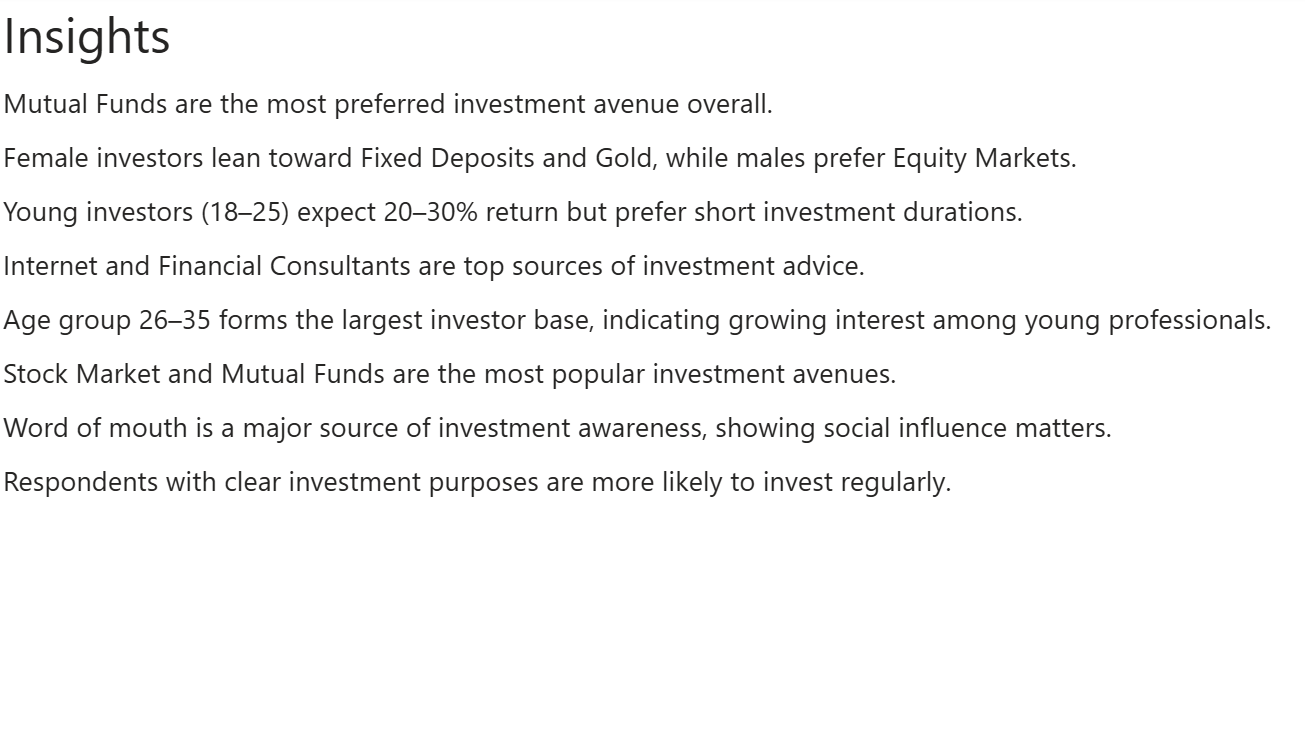

Layout of this report page (visuals, bound fields, positions):
{"tool":"powerbi","page":{"name":"Insights","canvas":[1280,720],"ordinal":1},"visuals":[{"type":"textbox","box":[0,0,1280,720],"z":0}]}

Visuals, with their boxes in screenshot pixels (x1, y1, x2, y2), scaled from the page's 1280x720 canvas onto the 1305x731 screenshot:
textbox: locate(0, 0, 1304, 730)
